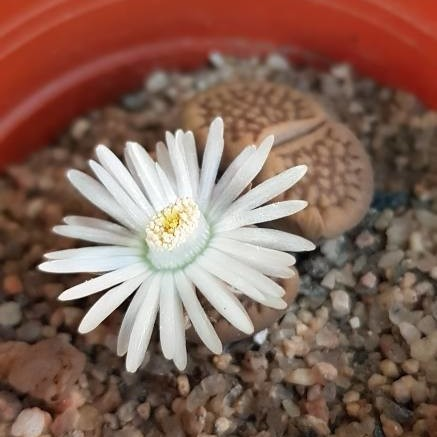obstacle: (27, 106, 312, 369)
